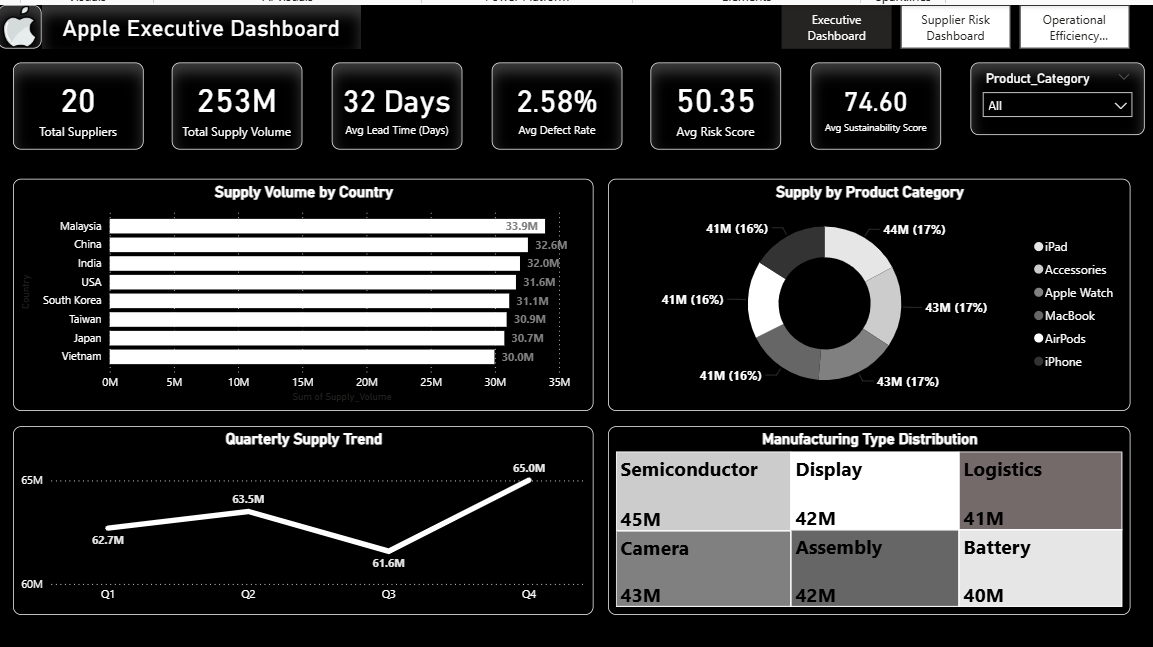

The page's visual inventory and layout, read from the dashboard file:
{"tool":"powerbi","page":{"name":"Executive Dashboard","canvas":[1280,720],"ordinal":0},"visuals":[{"type":"card","fields":{"Values":["apple_supplier_dataset_10000.I"]},"box":[48,0,352,48],"z":0},{"type":"card","fields":{"Values":["apple_supplier_dataset_10000.Total Suppliers"]},"box":[16,64,144,96],"z":1000},{"type":"card","fields":{"Values":["apple_supplier_dataset_10000.Total Supply Volume"]},"box":[192,64,144,96],"z":2000},{"type":"card","fields":{"Values":["apple_supplier_dataset_10000.Avg Lead Time"]},"box":[368,64,144,96],"z":3000},{"type":"card","fields":{"Values":["apple_supplier_dataset_10000.Avg Defect Rate"]},"box":[544,64,144,96],"z":4000},{"type":"card","fields":{"Values":["apple_supplier_dataset_10000.Avg Risk Score"]},"box":[720,64,144,96],"z":5000},{"type":"clusteredBarChart","title":"Supply Volume by Country","fields":{"Y":["Sum(apple_supplier_dataset_10000.Supply_Volume)"],"Category":["apple_supplier_dataset_10000.Country"]},"box":[16,192,640,256],"z":6000},{"type":"donutChart","title":"Supply by Product Category","fields":{"Category":["apple_supplier_dataset_10000.Product_Category"],"Y":["Sum(apple_supplier_dataset_10000.Supply_Volume)"]},"box":[672,192,576,256],"z":7000},{"type":"lineChart","title":"Quarterly Supply Trend","fields":{"Category":["apple_supplier_dataset_10000.Quarter"],"Y":["Sum(apple_supplier_dataset_10000.Supply_Volume)"]},"box":[16,464,640,208],"z":8000},{"type":"treemap","title":"Manufacturing Type Distribution","fields":{"Values":["Sum(apple_supplier_dataset_10000.Supply_Volume)"],"Group":["apple_supplier_dataset_10000.Manufacturing_Type"]},"box":[672,464,576,208],"z":9000},{"type":"slicer","fields":{"Values":["apple_supplier_dataset_10000.Product_Category"]},"box":[1072,64,192,80],"z":10000},{"type":"card","fields":{"Values":["apple_supplier_dataset_10000.Avg Sustainability Score"]},"box":[896,64,144,96],"z":11000},{"type":"image","box":[0,0,48,48],"z":12000},{"type":"pageNavigator","box":[864,0,384,48],"z":12001}]}

Visuals, with their boxes in screenshot pixels (x1, y1, x2, y2), scaled from the page's 1280x720 canvas onto the 1153x647 screenshot:
card - apple_supplier_dataset_10000.I: bbox=[43, 0, 360, 43]
card - apple_supplier_dataset_10000.Total Suppliers: bbox=[14, 58, 144, 144]
card - apple_supplier_dataset_10000.Total Supply Volume: bbox=[173, 58, 303, 144]
card - apple_supplier_dataset_10000.Avg Lead Time: bbox=[331, 58, 461, 144]
card - apple_supplier_dataset_10000.Avg Defect Rate: bbox=[490, 58, 620, 144]
card - apple_supplier_dataset_10000.Avg Risk Score: bbox=[649, 58, 778, 144]
"Supply Volume by Country" clusteredBarChart: bbox=[14, 173, 591, 403]
"Supply by Product Category" donutChart: bbox=[605, 173, 1124, 403]
"Quarterly Supply Trend" lineChart: bbox=[14, 417, 591, 604]
"Manufacturing Type Distribution" treemap: bbox=[605, 417, 1124, 604]
slicer - apple_supplier_dataset_10000.Product_Category: bbox=[966, 58, 1139, 129]
card - apple_supplier_dataset_10000.Avg Sustainability Score: bbox=[807, 58, 937, 144]
image: bbox=[0, 0, 43, 43]
pageNavigator: bbox=[778, 0, 1124, 43]
